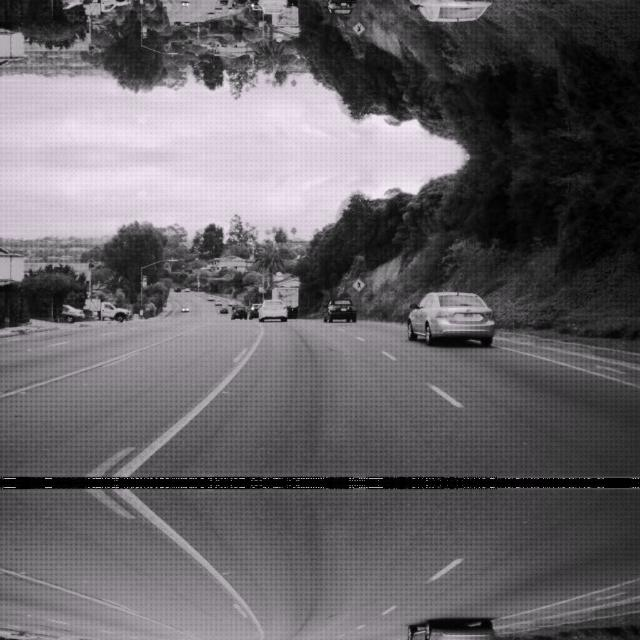pedestrianCrossing: (351, 276, 365, 292), (351, 20, 365, 36)
